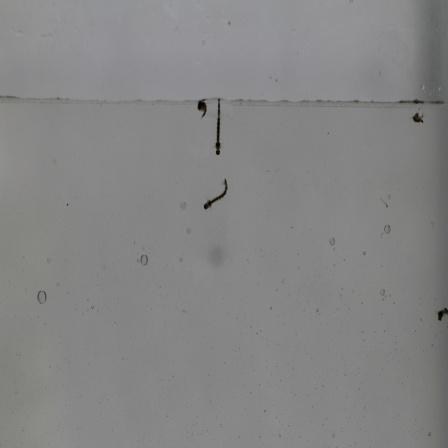Jentik-Nyamuk: (201, 177, 229, 212), (212, 98, 225, 158), (409, 107, 429, 127), (195, 98, 208, 123), (433, 302, 448, 323)
